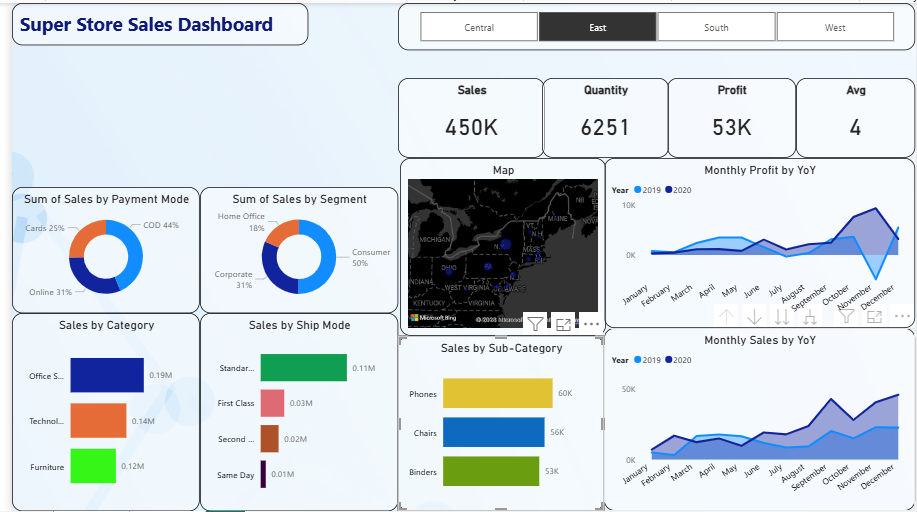

Layout of this report page (visuals, bound fields, positions):
{"tool":"powerbi","page":{"name":"Page 1","canvas":[1280,720],"ordinal":0},"visuals":[{"type":"clusteredBarChart","title":" Sales by Category","fields":{"Category":["SuperStore_Sales_Dataset.Category"],"Y":["Sum(SuperStore_Sales_Dataset.Sales)"]},"box":[0,439.4,266.5,280.6],"z":0},{"type":"clusteredBarChart","title":" Sales by Sub-Category","fields":{"Category":["SuperStore_Sales_Dataset.Sub-Category"],"Y":["Sum(SuperStore_Sales_Dataset.Sales)"]},"box":[547.1,472,292,248],"z":1000},{"type":"clusteredBarChart","title":" Sales by Ship Mode","fields":{"Category":["SuperStore_Sales_Dataset.Ship Mode"],"Y":["Sum(SuperStore_Sales_Dataset.Sales)"]},"box":[266.5,439.4,280.6,280.6],"z":2000},{"type":"areaChart","title":"Monthly Sales by YoY","fields":{"Category":["SuperStore_Sales_Dataset.Order Date.Variation.Date Hierarchy.Month","SuperStore_Sales_Dataset.Order Date.Variation.Date Hierarchy.Day"],"Y":["Sum(SuperStore_Sales_Dataset.Sales)"],"Series":["SuperStore_Sales_Dataset.Order Date.Variation.Date Hierarchy.Year"]},"box":[839.1,460.6,440.8,259.4],"z":3000},{"type":"areaChart","title":"Monthly Profit by YoY","fields":{"Category":["SuperStore_Sales_Dataset.Order Date.Variation.Date Hierarchy.Month","SuperStore_Sales_Dataset.Order Date.Variation.Date Hierarchy.Day"],"Series":["SuperStore_Sales_Dataset.Order Date.Variation.Date Hierarchy.Year"],"Y":["Sum(SuperStore_Sales_Dataset.Profit)"]},"box":[839.1,219.7,440.8,240.9],"z":4000},{"type":"map","title":"Map","fields":{"Category":["SuperStore_Sales_Dataset.State"],"Size":["Sum(SuperStore_Sales_Dataset.Sales)"]},"box":[549.9,219.7,292,252.3],"z":5000},{"type":"donutChart","fields":{"Category":["SuperStore_Sales_Dataset.Segment"],"Y":["Sum(SuperStore_Sales_Dataset.Sales)"]},"box":[266.5,260.8,280.6,178.6],"z":6000},{"type":"donutChart","fields":{"Y":["Sum(SuperStore_Sales_Dataset.Sales)"],"Category":["SuperStore_Sales_Dataset.Payment Mode"]},"box":[0,260.8,266.5,178.6],"z":7000},{"type":"slicer","fields":{"Values":["SuperStore_Sales_Dataset.Region"]},"box":[547.1,0,732.8,66.6],"z":8000},{"type":"card","title":"Sales","fields":{"Values":["Sum(SuperStore_Sales_Dataset.Sales)"]},"box":[547.1,106.3,208.3,113.4],"z":9000},{"type":"textbox","box":[0,0,419.5,59.5],"z":10000},{"type":"card","title":"Profit","fields":{"Values":["Sum(SuperStore_Sales_Dataset.Profit)"]},"box":[928.3,106.3,182.8,113.4],"z":11000},{"type":"card","title":"Quantity","fields":{"Values":["Sum(SuperStore_Sales_Dataset.Quantity)"]},"box":[751.2,106.3,180,113.4],"z":12000},{"type":"card","title":"Avg","fields":{"Values":["Avg(SuperStore_Sales_Dataset.AvgDelivery)"]},"box":[1111.2,106.3,168.7,113.4],"z":13000}]}

Visuals, with their boxes in screenshot pixels (x1, y1, x2, y2), scaled from the page's 1280x720 canvas onto the 917x512 screenshot:
" Sales by Category" clusteredBarChart: l=0, t=312, r=191, b=511
" Sales by Sub-Category" clusteredBarChart: l=392, t=336, r=601, b=511
" Sales by Ship Mode" clusteredBarChart: l=191, t=312, r=392, b=511
"Monthly Sales by YoY" areaChart: l=601, t=328, r=916, b=511
"Monthly Profit by YoY" areaChart: l=601, t=156, r=916, b=328
"Map" map: l=394, t=156, r=603, b=336
donutChart - SuperStore_Sales_Dataset.Segment x Sum(SuperStore_Sales_Dataset.Sales): l=191, t=185, r=392, b=312
donutChart - Sum(SuperStore_Sales_Dataset.Sales) x SuperStore_Sales_Dataset.Payment Mode: l=0, t=185, r=191, b=312
slicer - SuperStore_Sales_Dataset.Region: l=392, t=0, r=916, b=47
"Sales" card: l=392, t=76, r=541, b=156
textbox: l=0, t=0, r=301, b=42
"Profit" card: l=665, t=76, r=796, b=156
"Quantity" card: l=538, t=76, r=667, b=156
"Avg" card: l=796, t=76, r=916, b=156
